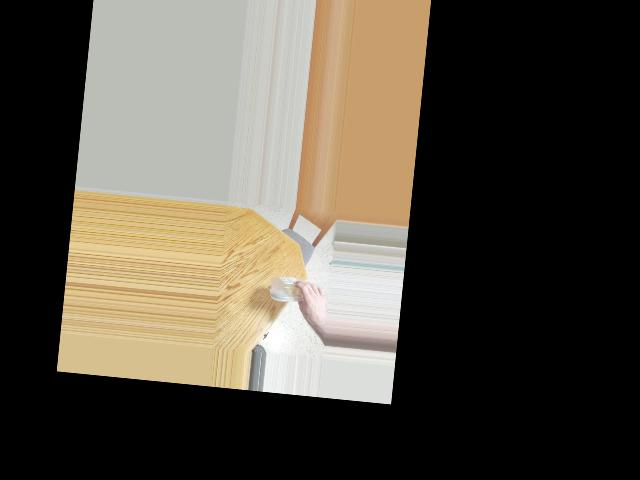cheese: (263, 268, 313, 313)
